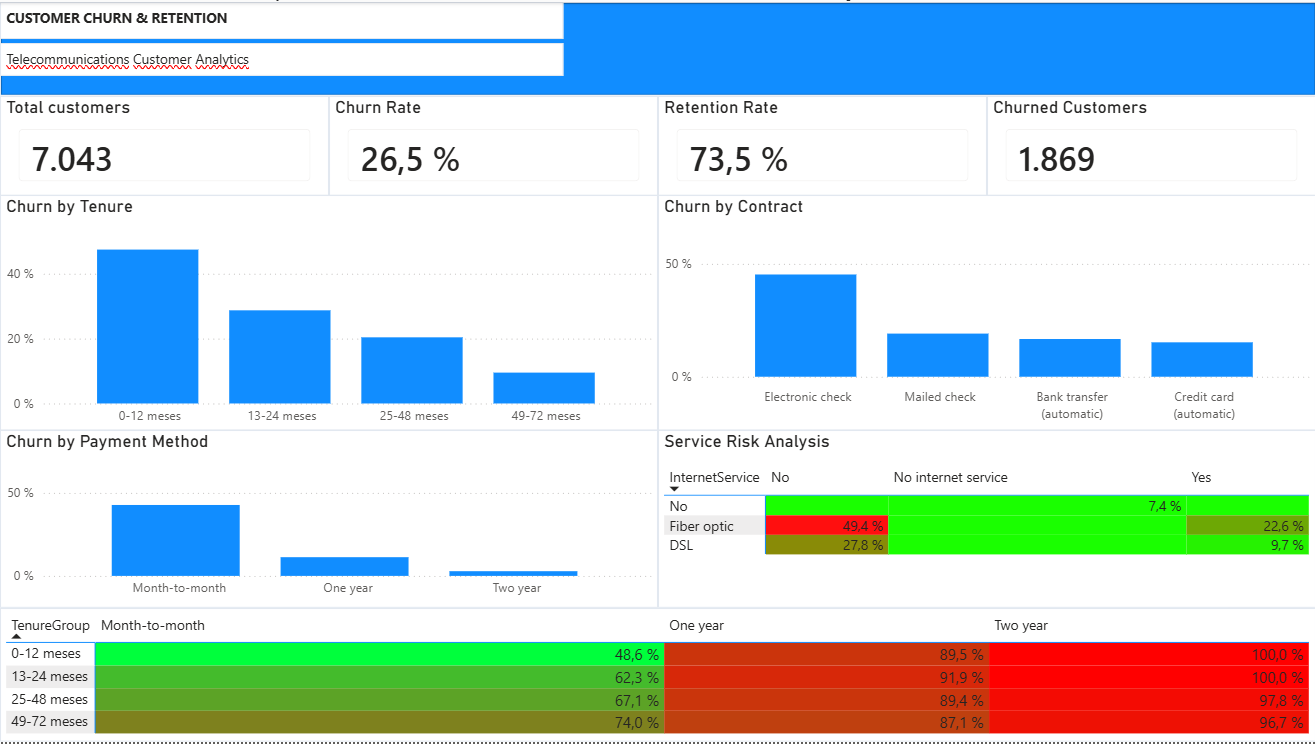

Layout of this report page (visuals, bound fields, positions):
{"tool":"powerbi","page":{"name":"Página 1","canvas":[1280,720],"ordinal":0},"visuals":[{"type":"shape","box":[0,0,1280,103],"z":0},{"type":"cardVisual","title":"Total customers","fields":{"Data":["FactCustomerChurn.Total Customers Display"]},"box":[7.8,107.1,300.8,87.6],"z":1000},{"type":"cardVisual","title":"Churned Customers","fields":{"Data":["FactCustomerChurn.Churned Customers Display"]},"box":[963.6,106.7,308.6,88.3],"z":2000},{"type":"cardVisual","title":"Churn Rate","fields":{"Data":["FactCustomerChurn.Churn Rate %"]},"box":[316.3,107.1,316.1,87.5],"z":3000},{"type":"cardVisual","title":"Retention Rate","fields":{"Data":["FactCustomerChurn.Retention Rate %"]},"box":[647.3,107.1,300.5,87.5],"z":4000},{"type":"clusteredColumnChart","title":"Churn by Tenure","fields":{"Category":["DimTenure.TenureGroup"],"Y":["FactCustomerChurn.Churn Rate %"]},"box":[7.8,202.5,624.9,204.4],"z":5000},{"type":"clusteredColumnChart","title":"Churn by Payment Method","fields":{"Category":["DimContract.ContractName"],"Y":["FactCustomerChurn.Churn Rate %"]},"box":[7.8,416.6,624.9,157.7],"z":6000},{"type":"clusteredColumnChart","title":"Churn by Contract","fields":{"Category":["DimPayment.PaymentMethod"],"Y":["FactCustomerChurn.Churn Rate %"]},"box":[647.3,202.5,624.9,204.4],"z":7000},{"type":"pivotTable","title":"Service Risk Analysis","fields":{"Rows":["DimService.InternetService"],"Columns":["DimService.TechSupport"],"Values":["FactCustomerChurn.Churn Rate %"]},"box":[647.3,416.6,624.9,157.7],"z":8000},{"type":"pivotTable","title":"Retention Rate by Tenure & Contract","fields":{"Rows":["DimTenure.TenureGroup"],"Columns":["DimContract.ContractName"],"Values":["FactCustomerChurn.Retention Rate %"]},"box":[7.8,580.3,1264.5,139.7],"z":9000},{"type":"textbox","box":[140.2,56.5,500.3,43.8],"z":10000},{"type":"textbox","box":[140.2,1,565.5,55.5],"z":11000},{"type":"slicer","fields":{"Values":["DimContract.ContractName"]},"box":[705.7,14.6,181,62.3],"z":12000},{"type":"slicer","fields":{"Values":["DimPayment.PaymentMethod"]},"box":[886.8,14.6,181,62.3],"z":13000},{"type":"slicer","fields":{"Values":["DimService.InternetService"]},"box":[1067.8,14.6,181,62.3],"z":14000},{"type":"image","box":[32.1,14.6,72,71.1],"z":15000}]}

Visuals, with their boxes in screenshot pixels (x1, y1, x2, y2), scaled from the page's 1280x720 canvas onto the 1315x745 screenshot:
shape: left=0, top=0, right=1314, bottom=107
"Total customers" cardVisual: left=8, top=111, right=317, bottom=201
"Churned Customers" cardVisual: left=990, top=110, right=1307, bottom=202
"Churn Rate" cardVisual: left=325, top=111, right=650, bottom=201
"Retention Rate" cardVisual: left=665, top=111, right=974, bottom=201
"Churn by Tenure" clusteredColumnChart: left=8, top=210, right=650, bottom=421
"Churn by Payment Method" clusteredColumnChart: left=8, top=431, right=650, bottom=594
"Churn by Contract" clusteredColumnChart: left=665, top=210, right=1307, bottom=421
"Service Risk Analysis" pivotTable: left=665, top=431, right=1307, bottom=594
"Retention Rate by Tenure & Contract" pivotTable: left=8, top=600, right=1307, bottom=744
textbox: left=144, top=58, right=658, bottom=104
textbox: left=144, top=1, right=725, bottom=58
slicer - DimContract.ContractName: left=725, top=15, right=911, bottom=80
slicer - DimPayment.PaymentMethod: left=911, top=15, right=1097, bottom=80
slicer - DimService.InternetService: left=1097, top=15, right=1283, bottom=80
image: left=33, top=15, right=107, bottom=89
